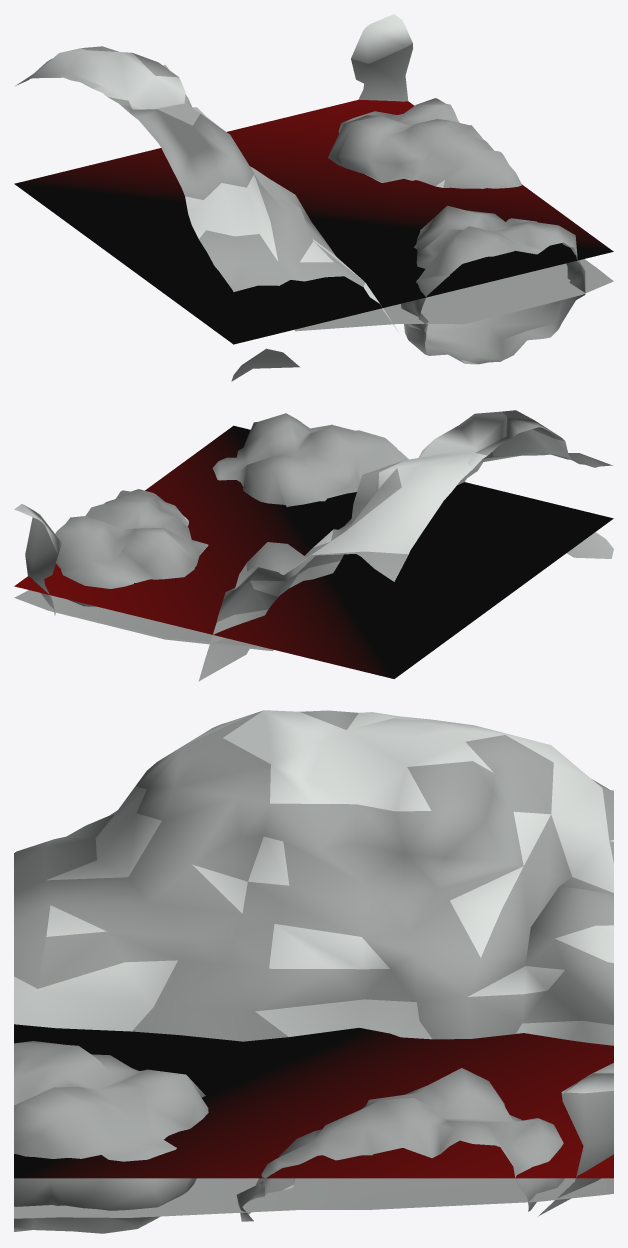
3 renders of one model, top to bottom at view 1: azimuth 30°, elevation 25°; view 2: azimuth 150°, elevation 25°; view 3: azimuth 270°, elevation 25°, orthographic. The views are drawn at different scales.
Parts seen in each view (by area): view 1: G:\FFXIV-MapTools\exports\f1f3\bg\ffxiv\fst_f1\fld\f1f3\bgpl (×8); view 2: G:\FFXIV-MapTools\exports\f1f3\bg\ffxiv\fst_f1\fld\f1f3\bgpl (×9); view 3: G:\FFXIV-MapTools\exports\f1f3\bg\ffxiv\fst_f1\fld\f1f3\bgpl (×9).
Boxes of the visible parts, bbox=[...] form: G:\FFXIV-MapTools\exports\f1f3\bg\ffxiv\fst_f1\fld\f1f3\bgpl (×8): bbox=[14, 14, 613, 381]; G:\FFXIV-MapTools\exports\f1f3\bg\ffxiv\fst_f1\fld\f1f3\bgpl (×9): bbox=[14, 410, 613, 681]; G:\FFXIV-MapTools\exports\f1f3\bg\ffxiv\fst_f1\fld\f1f3\bgpl (×9): bbox=[14, 710, 613, 1233].
Bounding box in the file's own units: 128 × 81.34 × 128.
